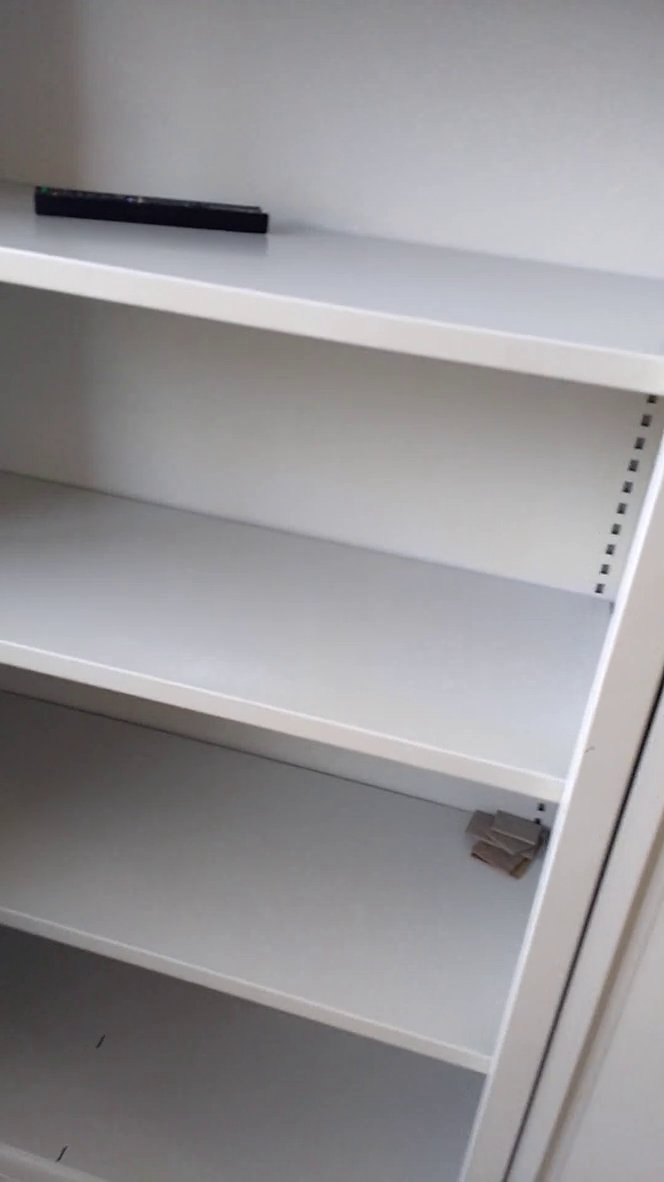remote: (19, 166, 277, 245)
